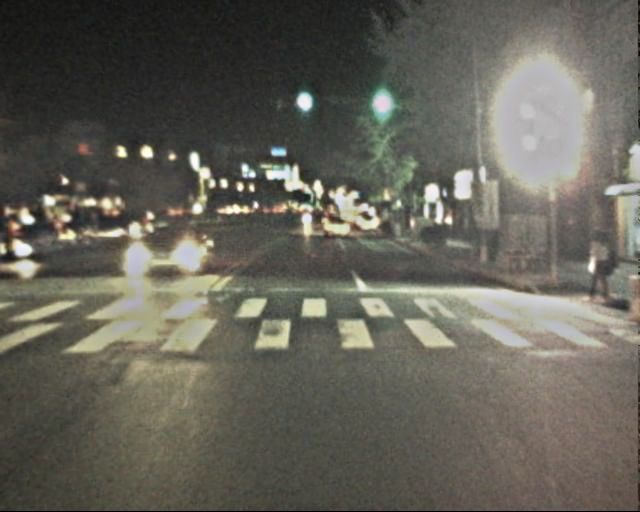person: (576, 227, 613, 308)
